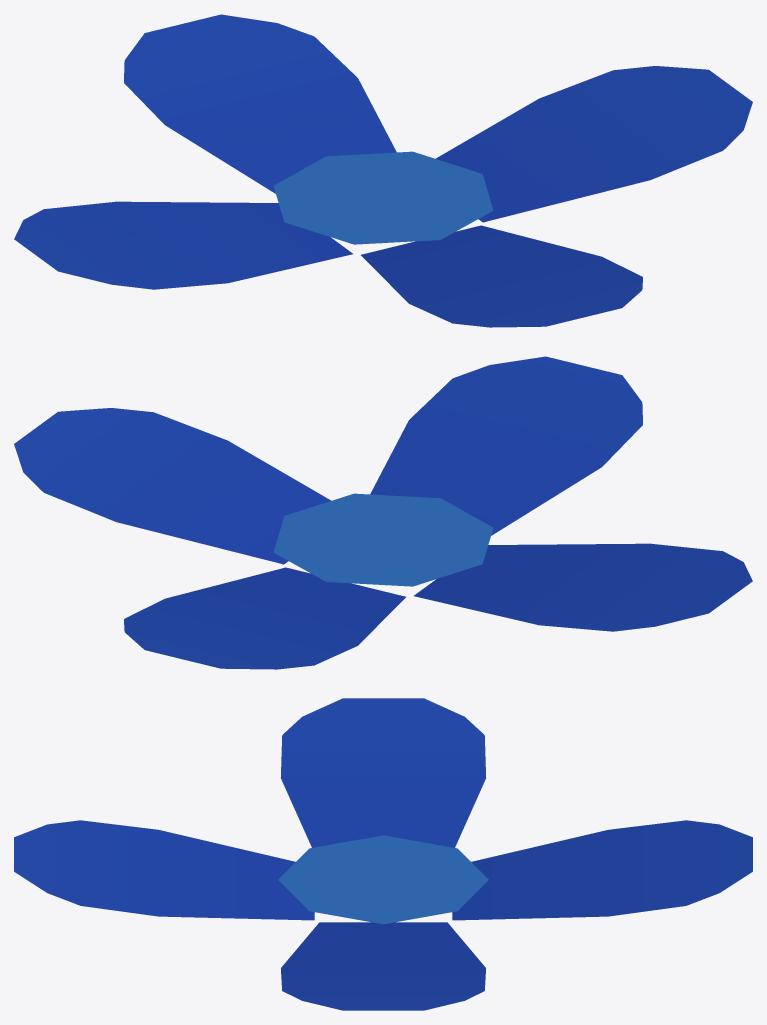
Rendered from Fleur.fbx.
The picture shows the model from 3 angles, top to bottom: view 1: azimuth 30°, elevation 25°; view 2: azimuth 150°, elevation 25°; view 3: azimuth 270°, elevation 25°; orthographic projection. The views are drawn at different scales.
Visible parts, largest first — view 1: Plane; view 2: Plane; view 3: Plane.
Part boxes in pixels (bbox=[...]): Plane: bbox=[14, 14, 752, 327]; Plane: bbox=[14, 356, 752, 669]; Plane: bbox=[14, 698, 752, 1010].
Size of the model in its own units: 836 by 48.57 by 836.
